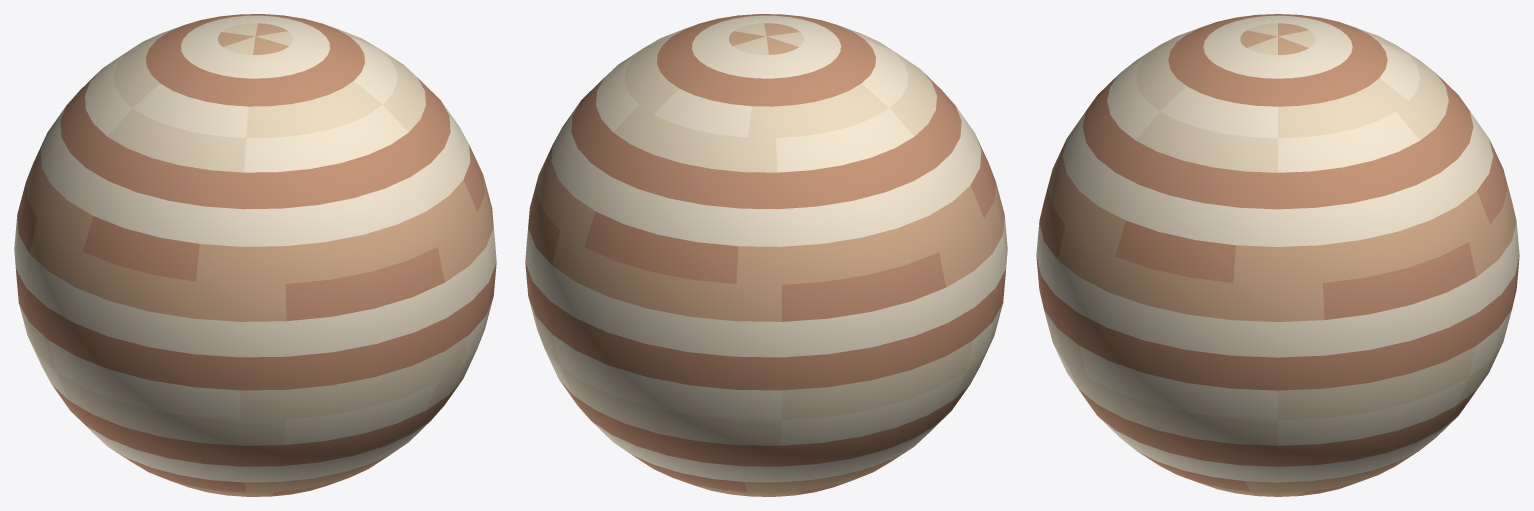
Rendered from jupiter.glb.
3 renders of one model, left to right at view 1: azimuth 30°, elevation 25°; view 2: azimuth 150°, elevation 25°; view 3: azimuth 270°, elevation 25°, orthographic.
Visible parts, largest first — view 1: Jupiter; view 2: Jupiter; view 3: Jupiter.
Part boxes in pixels (<box>): Jupiter: <box>14,14,496,496</box>; Jupiter: <box>525,14,1007,496</box>; Jupiter: <box>1036,14,1519,496</box>.
Bounding box in the file's own units: 2 × 2 × 2.
